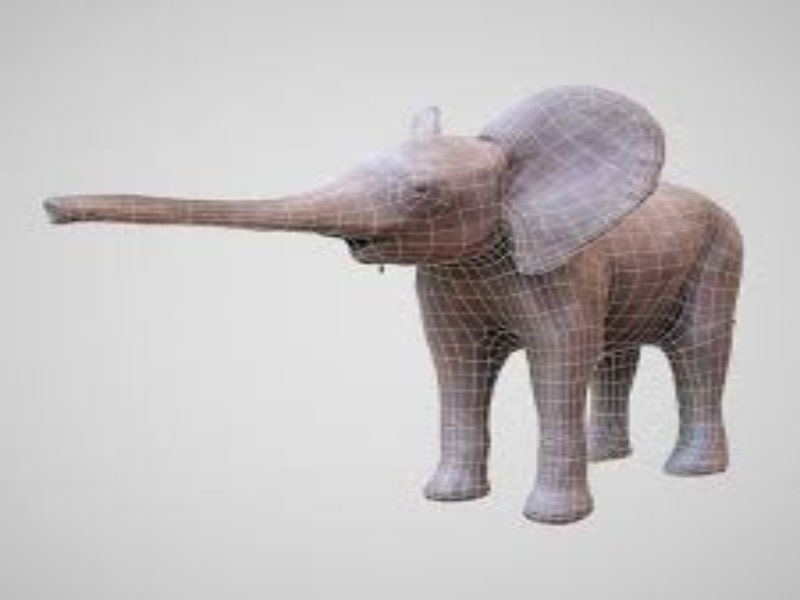elephant: (23, 34, 747, 543)
